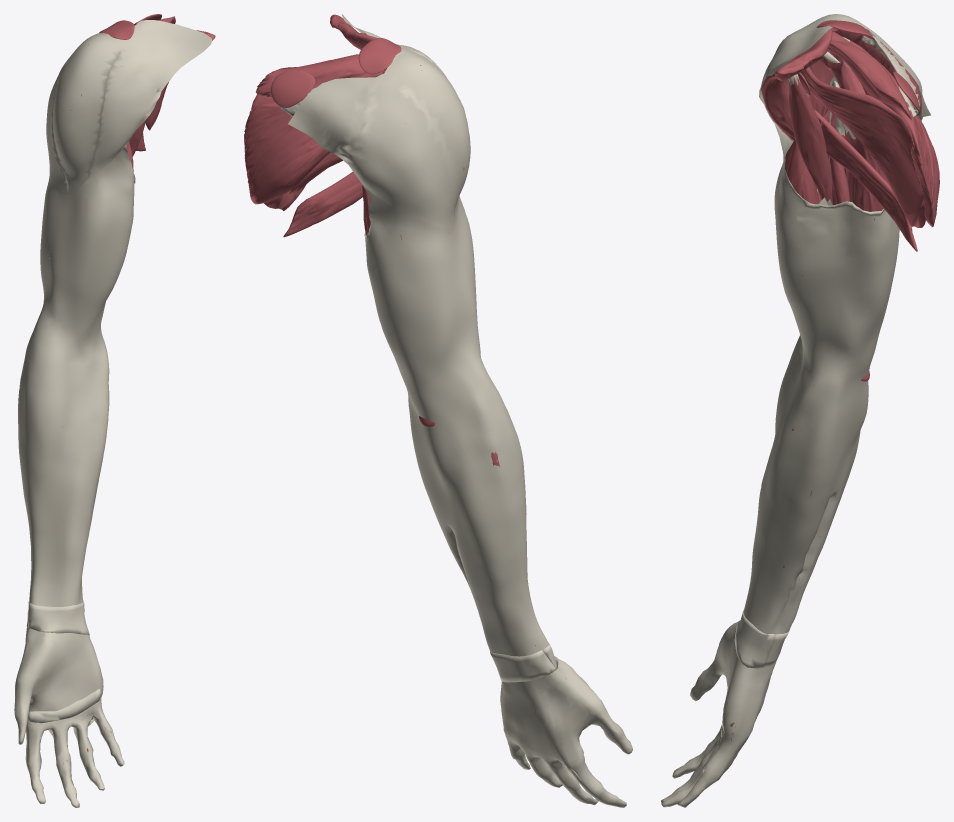
The model's file is detail-muscular-right-upper-limb.glb.
3 renders of one model, left to right at view 1: azimuth 30°, elevation 25°; view 2: azimuth 150°, elevation 25°; view 3: azimuth 270°, elevation 25°, orthographic. The views are drawn at different scales.
Visible parts, largest first — view 1: za-88abb64d46686d22, za-52e57ac59233c789, za-bf74252c8688821d, za-aa3a7733c88a6c3b, za-b31c0ddb48b97f9b, za-902cd04905d3ed1b, za-e4945e76463b5e2d, za-e09b7cf56931833b; view 2: za-88abb64d46686d22, za-52e57ac59233c789, za-bf74252c8688821d, za-902cd04905d3ed1b, za-3eade513dbf4cded, za-74df36823559349e, za-01cb75938da65be0, za-a777e1eb8ac244bd, za-aa3a7733c88a6c3b, za-e980626ca2cbb8e6, za-e09b7cf56931833b; view 3: za-88abb64d46686d22, za-bf74252c8688821d, za-bb19dc35992bc59a, za-aa3a7733c88a6c3b, za-355be994aa4e57ea, za-74df36823559349e, za-902cd04905d3ed1b, za-52e57ac59233c789, za-bc88f0f42d616eeb, za-3eade513dbf4cded, za-01cb75938da65be0, za-b31c0ddb48b97f9b (+6 smaller).
Boxes of the visible parts, x1,y1,x2,y2 form: za-88abb64d46686d22: [18, 310, 109, 606]; za-52e57ac59233c789: [46, 20, 211, 194]; za-bf74252c8688821d: [40, 145, 135, 339]; za-aa3a7733c88a6c3b: [18, 631, 124, 807]; za-b31c0ddb48b97f9b: [28, 601, 89, 635]; za-902cd04905d3ed1b: [14, 627, 121, 807]; za-e4945e76463b5e2d: [28, 688, 101, 722]; za-e09b7cf56931833b: [99, 20, 134, 39]; za-88abb64d46686d22: [405, 355, 548, 656]; za-52e57ac59233c789: [288, 14, 470, 234]; za-bf74252c8688821d: [358, 179, 480, 394]; za-902cd04905d3ed1b: [500, 664, 632, 807]; za-3eade513dbf4cded: [244, 101, 330, 204]; za-74df36823559349e: [283, 171, 362, 237]; za-01cb75938da65be0: [256, 54, 383, 96]; za-a777e1eb8ac244bd: [490, 650, 556, 682]; za-aa3a7733c88a6c3b: [521, 659, 632, 804]; za-e980626ca2cbb8e6: [271, 70, 315, 107]; za-e09b7cf56931833b: [358, 38, 401, 74]; za-88abb64d46686d22: [743, 335, 875, 634]; za-bf74252c8688821d: [774, 123, 899, 359]; za-bb19dc35992bc59a: [800, 67, 925, 227]; za-aa3a7733c88a6c3b: [661, 622, 747, 806]; za-355be994aa4e57ea: [789, 74, 832, 205]; za-74df36823559349e: [814, 109, 917, 251]; za-902cd04905d3ed1b: [663, 662, 775, 807]; za-52e57ac59233c789: [759, 14, 930, 143]; za-bc88f0f42d616eeb: [761, 28, 832, 141]; za-3eade513dbf4cded: [842, 36, 939, 227]; za-01cb75938da65be0: [828, 32, 912, 120]; za-b31c0ddb48b97f9b: [734, 610, 775, 668].
Size of the model in its own units: 0.2724 by 0.727 by 0.2144.
